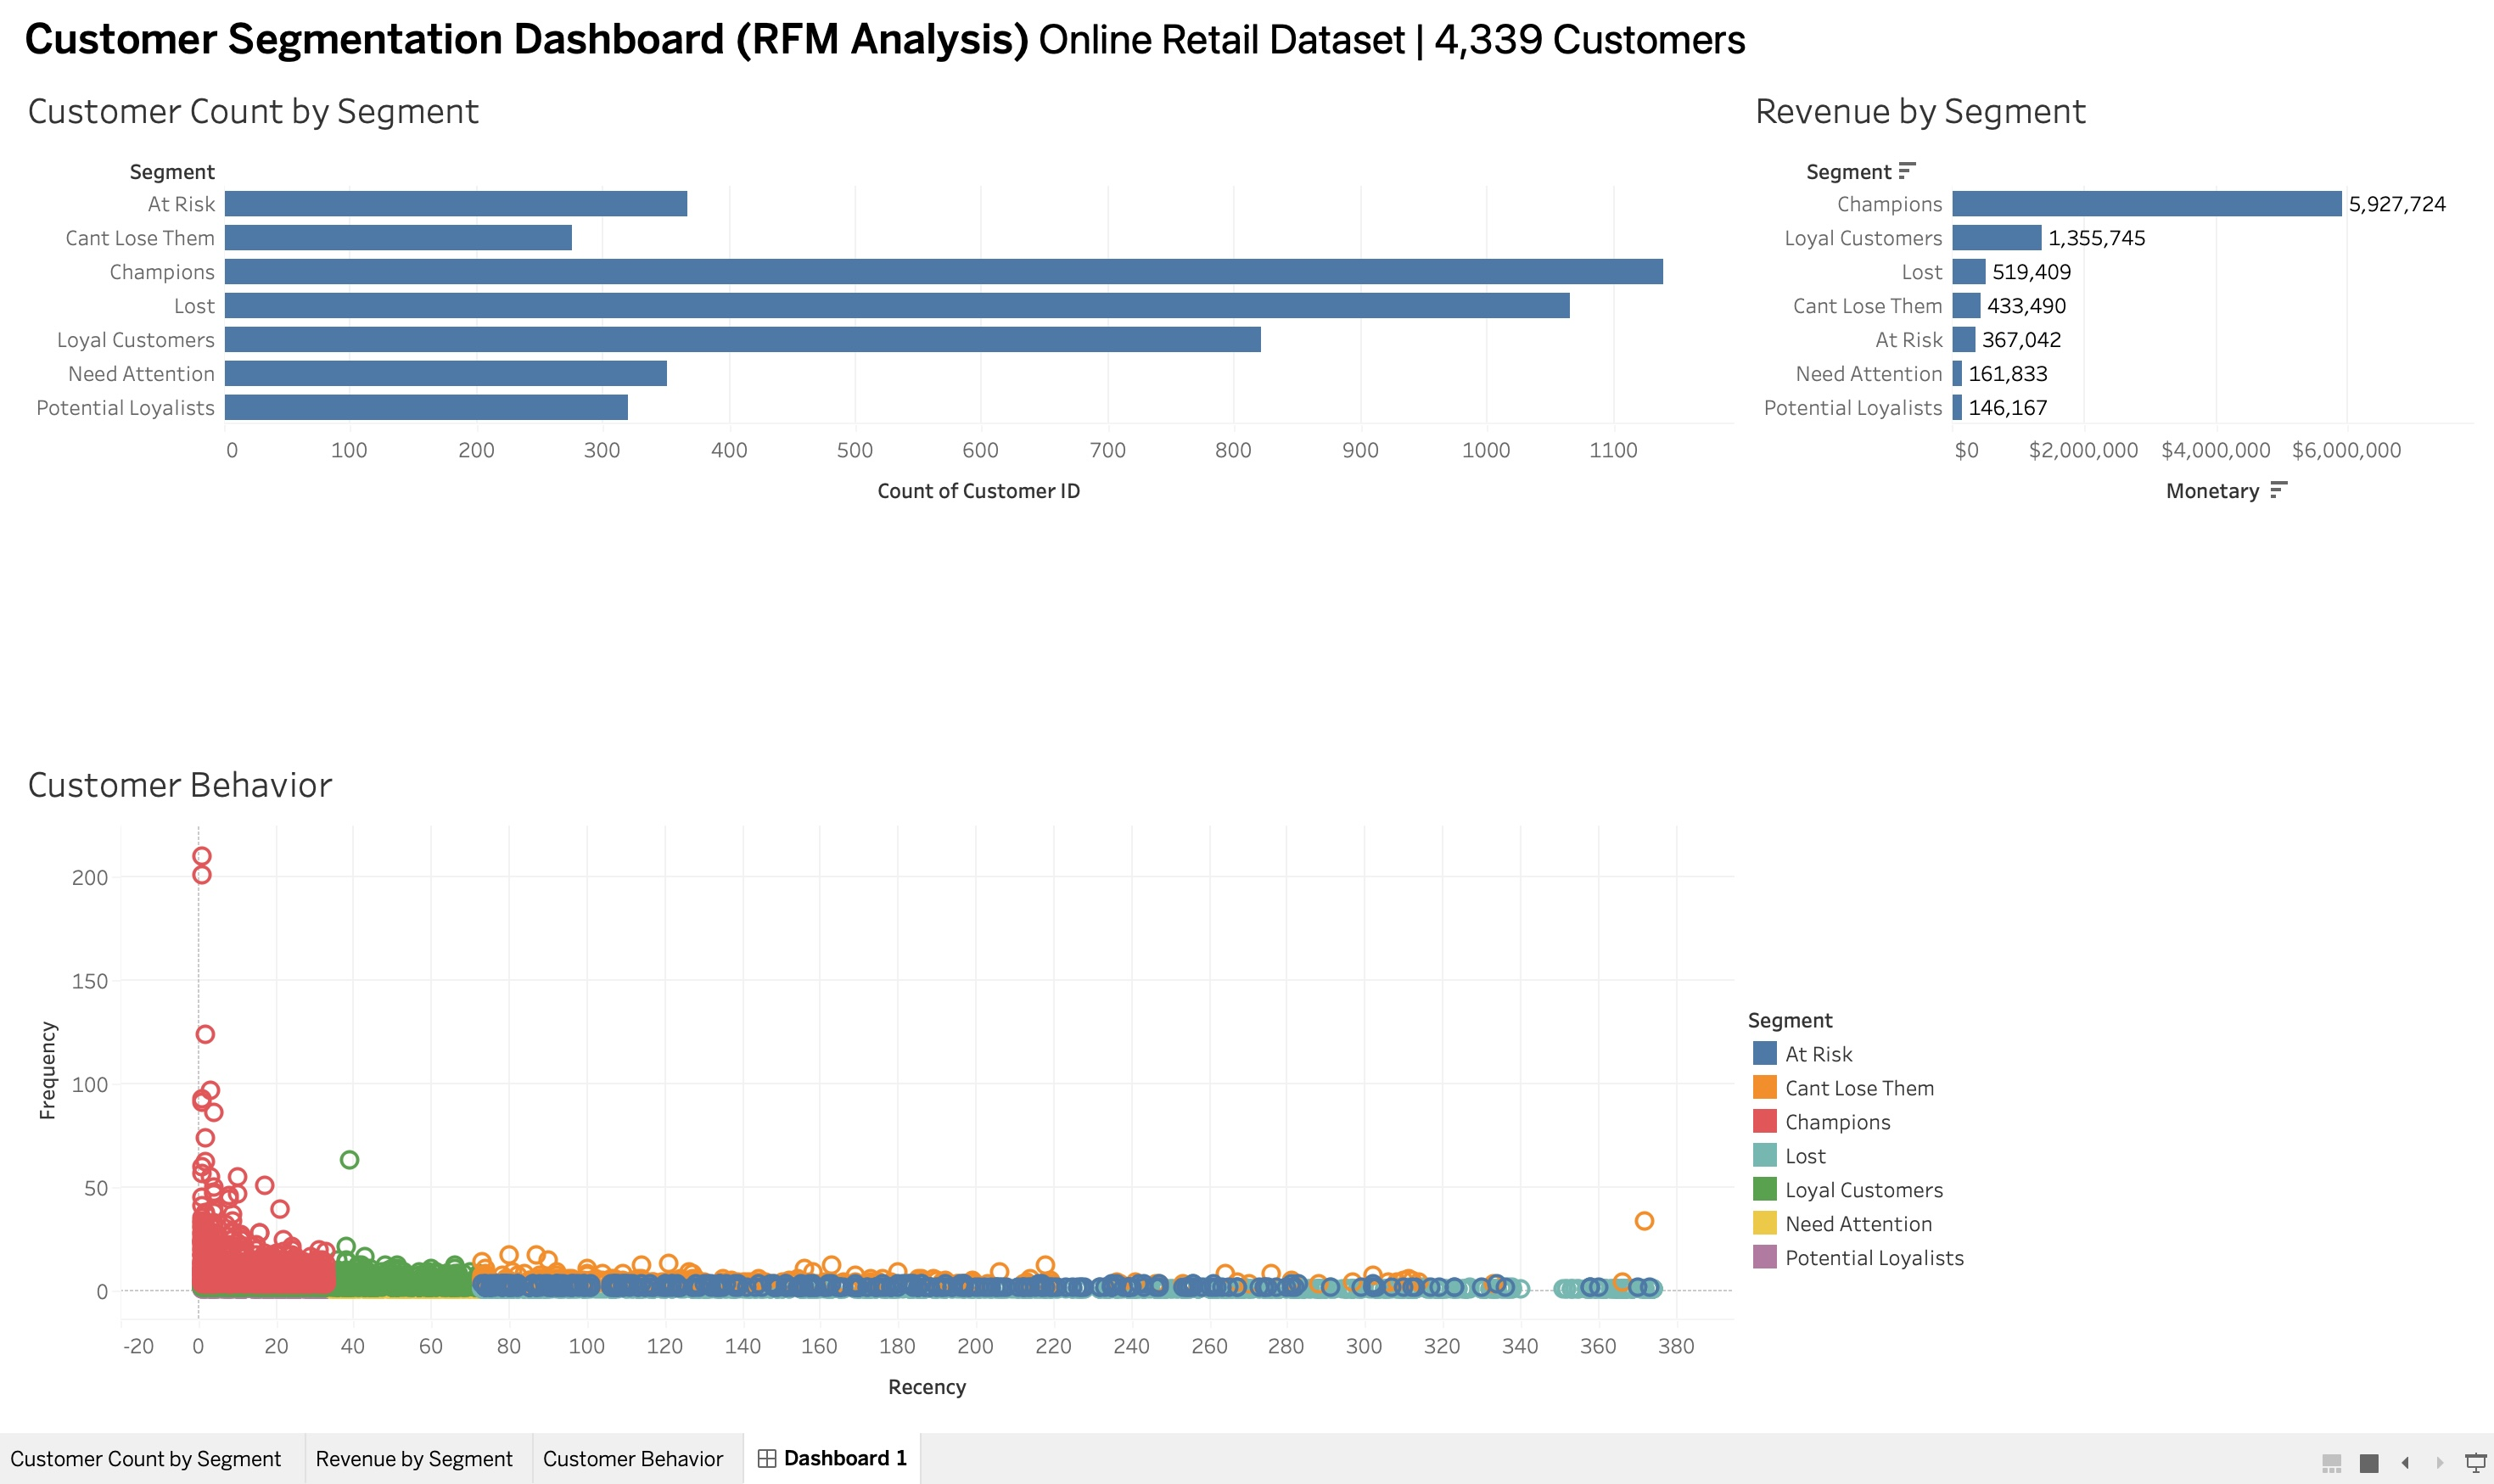

What the dashboard file says about the page in this screenshot:
{"tool":"tableau","page":{"name":"Dashboard 1","canvas":[1000,1000],"units":"permille","ordinal":0},"visuals":[{"type":"title","box":[6.4,10.2,987.3,49.6]},{"type":"worksheet","title":"Customer Count by Segment","mark":"Automatic","rows":["Segment"],"cols":["CustomerID"],"box":[6.4,59.7,691.3,465]},{"type":"worksheet","title":"Revenue by Segment","mark":"Automatic","rows":["Segment"],"cols":["Monetary"],"box":[697.7,59.7,296,639.1]},{"type":"worksheet","title":"Customer Behavior","mark":"Automatic","rows":["Frequency"],"cols":["Recency"],"box":[6.4,524.8,691.3,465.1]},{"type":"legend","title":"Customer Behavior","param":"[federated.0jcpcke1dgw2o31g435u80hb40kf].[none:Segment:nk]","box":[697.7,698.9,296,291]}]}

Visuals, with their boxes on the dashboard's canvas, which has no fixed pixel size, in thousandths of its width and height (x1, y1, x2, y2). These are canvas units, not pixel positions in the 2494x1484 screenshot, which may show the page scaled, cropped or inside an application window:
title: [6, 10, 994, 60]
"Customer Count by Segment" worksheet: [6, 60, 698, 525]
"Revenue by Segment" worksheet: [698, 60, 994, 699]
"Customer Behavior" worksheet: [6, 525, 698, 990]
"Customer Behavior" legend: [698, 699, 994, 990]
